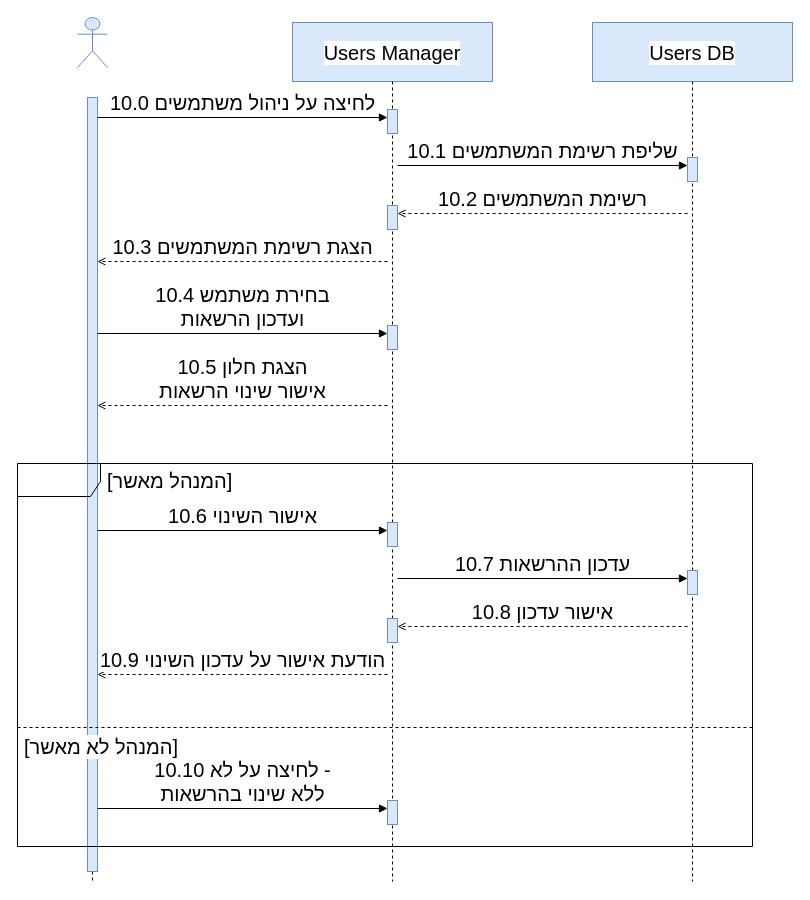
Image size: 810x900. Some labels were removed from this diagram. Each missing label, with the box of its shape:
alt: (16, 462, 752, 846)
מנהל ראשי: (76, 16, 108, 68)
